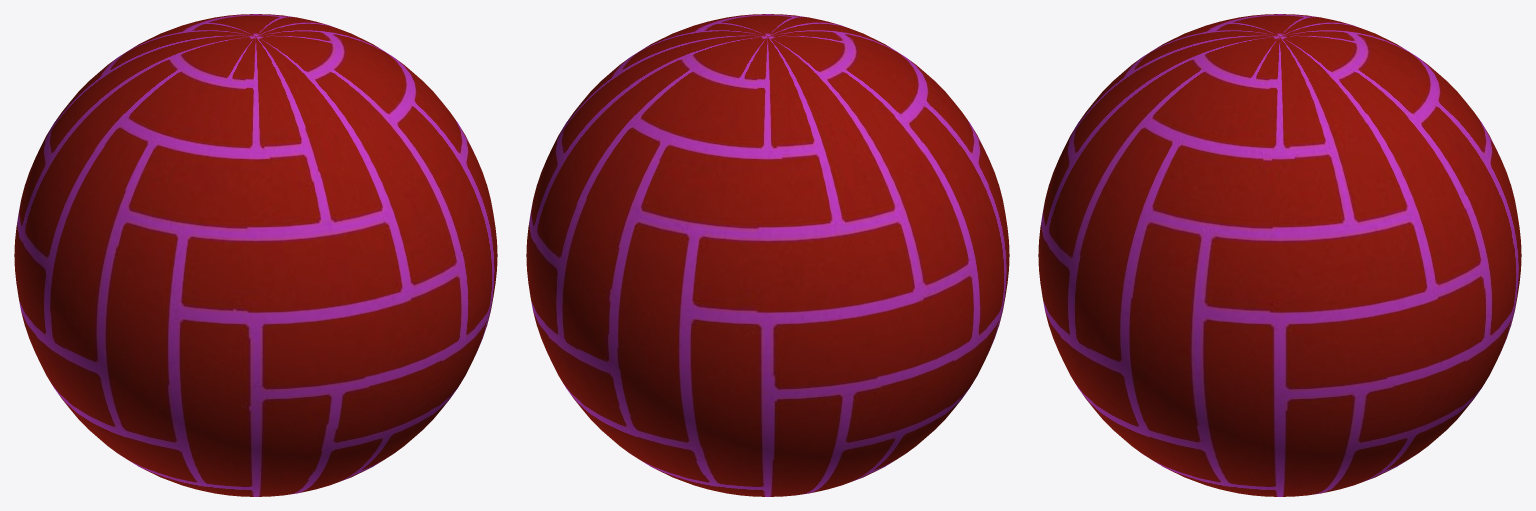
Rendered from asset.glb.
The picture shows the model from 3 angles, left to right: view 1: azimuth 30°, elevation 25°; view 2: azimuth 150°, elevation 25°; view 3: azimuth 270°, elevation 25°; orthographic projection.
Parts seen in each view (by area): view 1: 球; view 2: 球; view 3: 球.
Boxes of the visible parts, x1,y1,x2,y2 form: 球: [14, 14, 497, 496]; 球: [526, 14, 1009, 496]; 球: [1038, 14, 1521, 496].
Size of the model in its own units: 0.015 by 0.015 by 0.015.
1 material, 1 textured.
